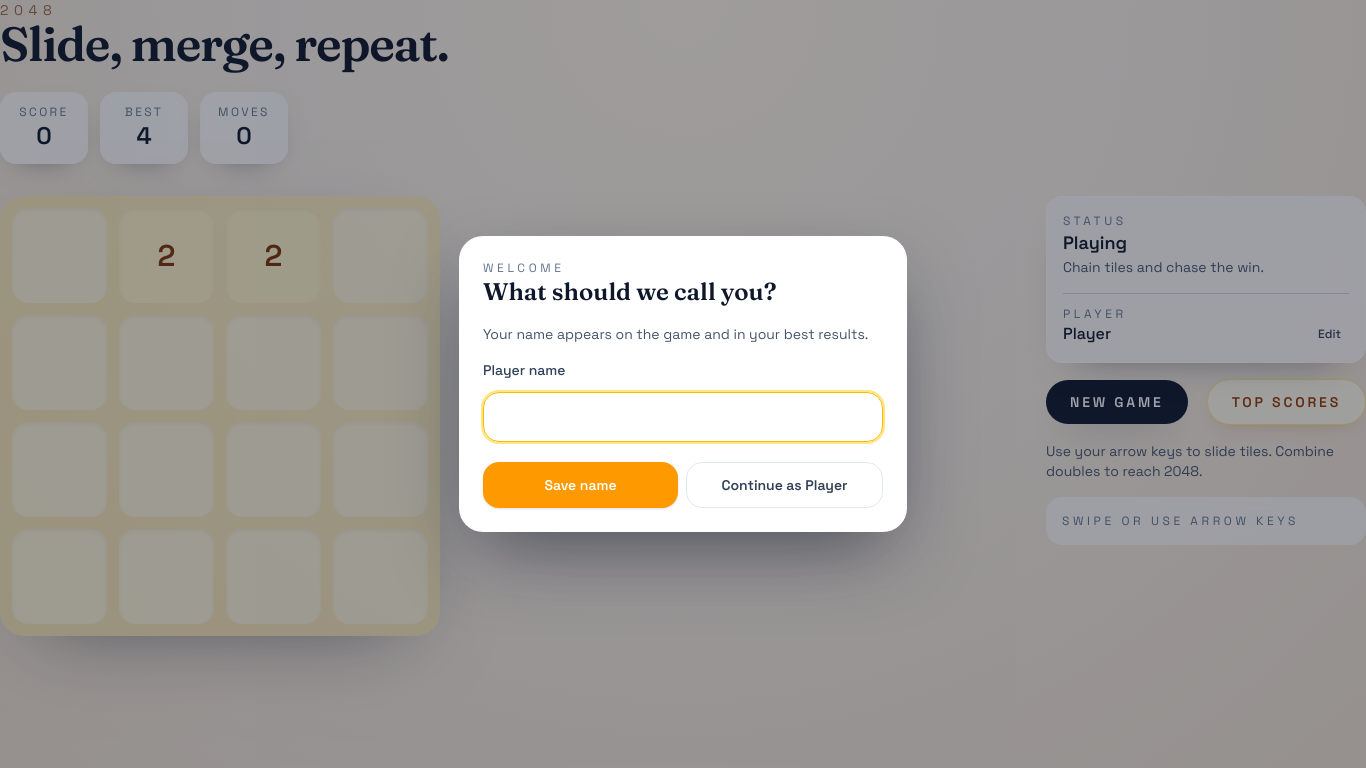
Scenario: GameContainer › displays player name on game page after stored
// Fill in name in the prompt
Type "Alice" into the field labelled "Player name" at (683, 417), box [483,392,883,442]
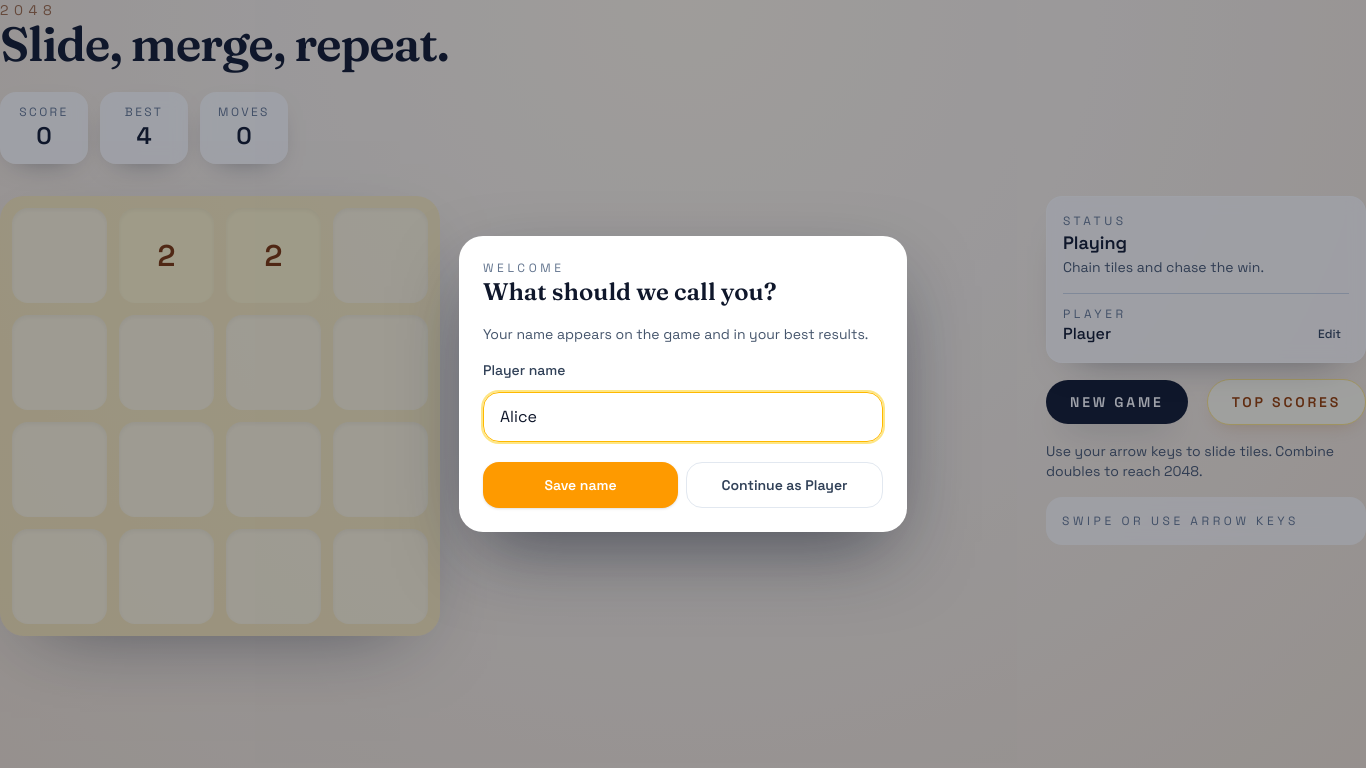
Click the button "Save name" at (580, 485), box [483,462,678,508]
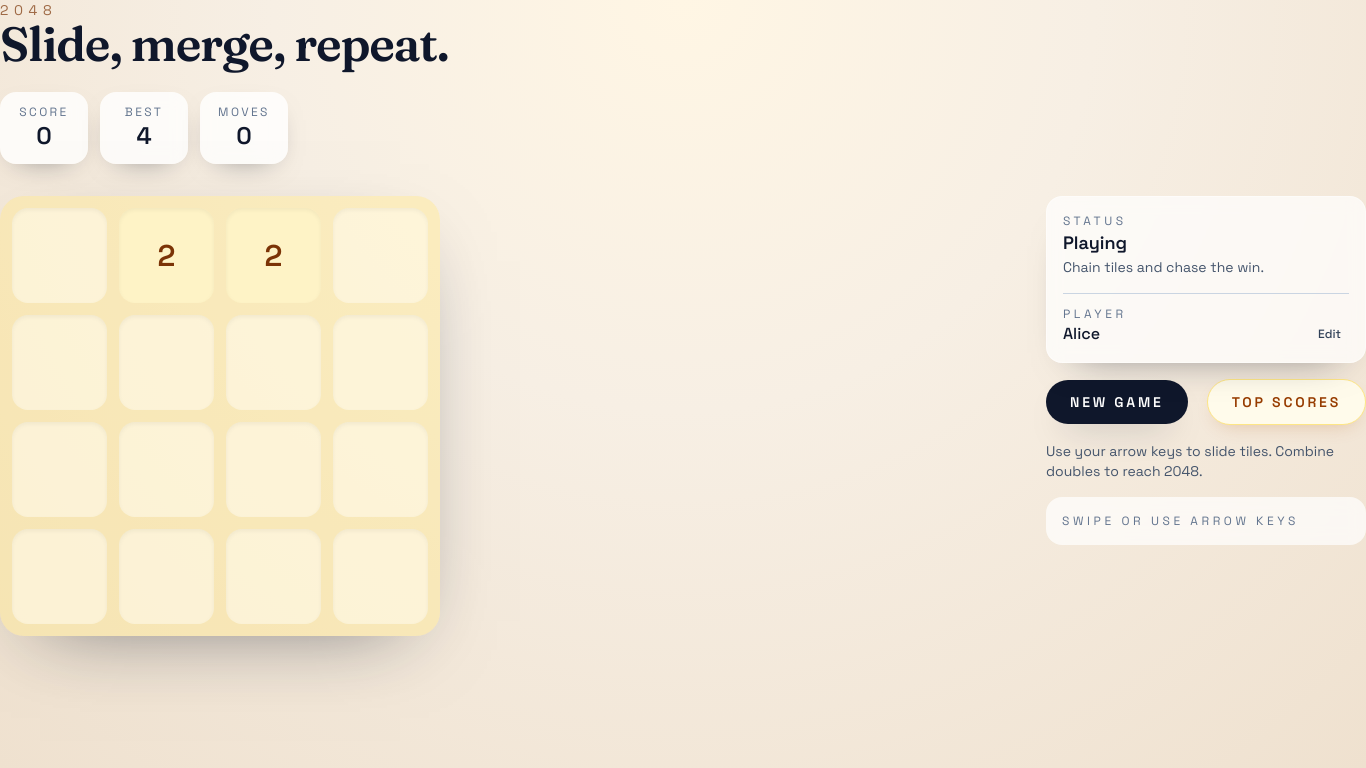
Check: the text "Alice" is shown, box [1063,322,1100,346]
